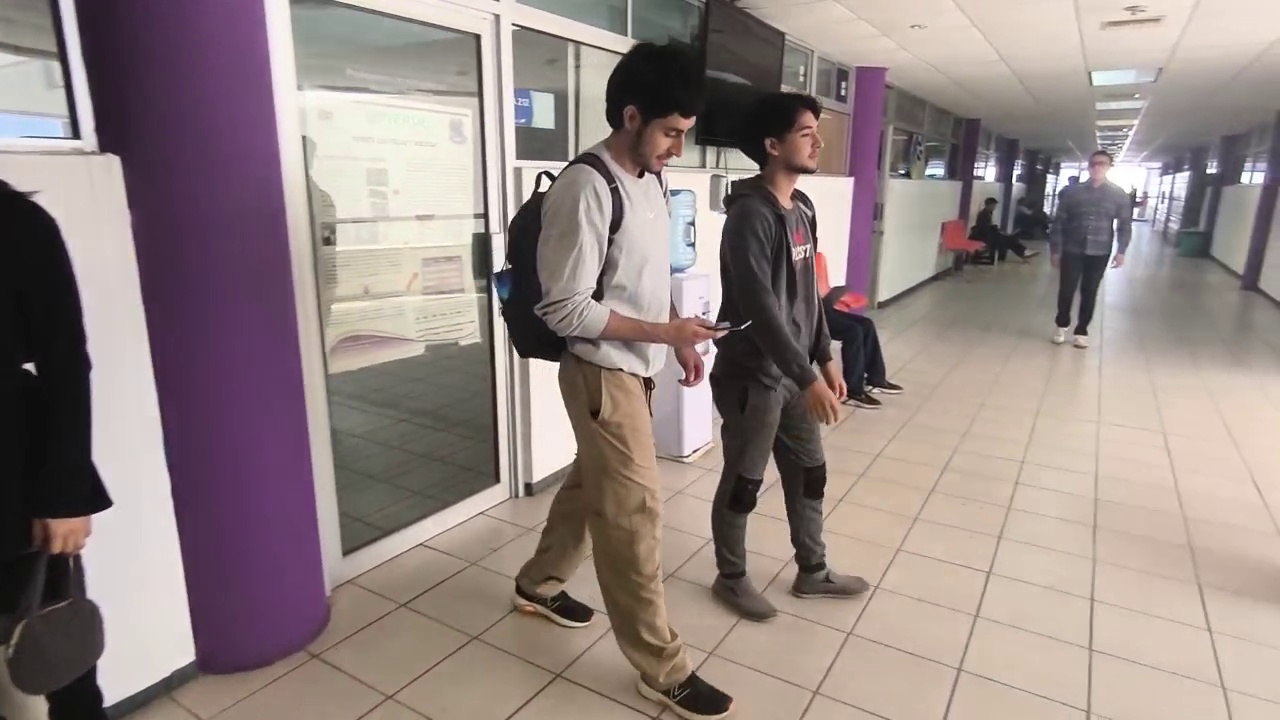mixto2: (705, 316, 757, 337)
